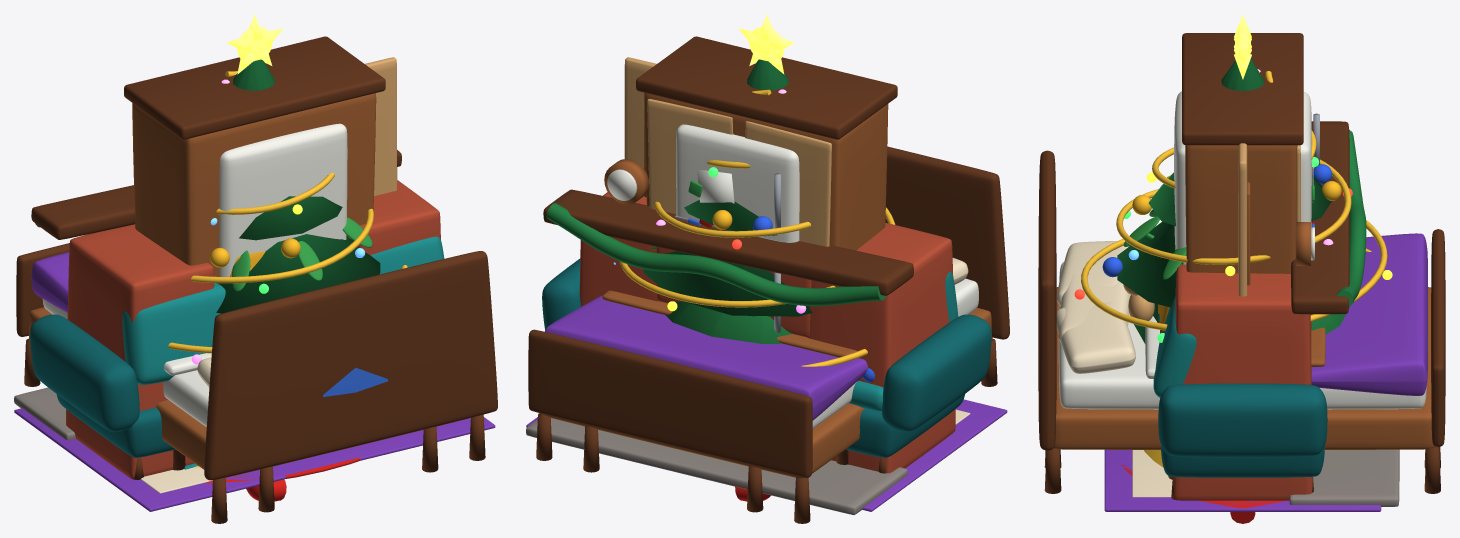
The model's file is furniture.glb.
3 renders of one model, left to right at view 1: azimuth 30°, elevation 25°; view 2: azimuth 150°, elevation 25°; view 3: azimuth 270°, elevation 25°, orthographic.
Parts seen in each view (by area): view 1: Headboard, Body.003, Crown, Jamb-1, Body.001, Arm-1, Rug.001, Back0, Tier1, Mantel, Jamb1, Slab (+17 smaller); view 2: Footboard, Crown, Jamb-1, Blanket, Headboard, Mantel, Hearth, Body.003, Arm-1, Body.001, Garland, Door.004 (+24 smaller); view 3: Jamb1, Blanket, Body.003, Crown, Arm1, Frame.001, Mattress, Mantel, Headboard, Hearth, Tinsel, Rug.001 (+21 smaller).
Part boxes in pixels (x1,y1,x2,y2): Headboard: [204, 251, 497, 480]; Body.003: [132, 93, 376, 276]; Crown: [124, 36, 385, 139]; Jamb-1: [66, 224, 214, 479]; Body.001: [219, 123, 347, 276]; Arm-1: [30, 314, 139, 431]; Rug.001: [14, 408, 495, 511]; Back0: [122, 283, 225, 384]; Tier1: [216, 234, 380, 313]; Mantel: [31, 150, 401, 239]; Jamb1: [358, 180, 440, 255]; Slab: [365, 57, 397, 195]; Footboard: [528, 329, 812, 477]; Crown: [636, 36, 897, 139]; Jamb-1: [807, 222, 955, 473]; Blanket: [545, 295, 867, 420]; Headboard: [885, 146, 1009, 339]; Mantel: [543, 189, 913, 295]; Hearth: [526, 418, 907, 514]; Body.003: [644, 92, 888, 250]; Arm-1: [882, 314, 991, 431]; Body.001: [676, 124, 799, 242]; Garland: [546, 203, 885, 306]; Door.004: [745, 121, 831, 246]; Jamb1: [1173, 264, 1312, 500]; Blanket: [1311, 233, 1427, 395]; Body.003: [1185, 145, 1297, 273]; Crown: [1182, 33, 1303, 145]; Arm1: [1158, 383, 1327, 457]; Frame.001: [1054, 287, 1434, 449]; Mattress: [1058, 262, 1426, 409]; Mantel: [1291, 121, 1349, 314]; Headboard: [1038, 150, 1056, 450]; Hearth: [1289, 449, 1399, 506]; Tinsel: [1081, 71, 1387, 330]; Rug.001: [1104, 449, 1381, 511].
Size of the model in its own units: 2.43 by 2.99 by 2.21.
